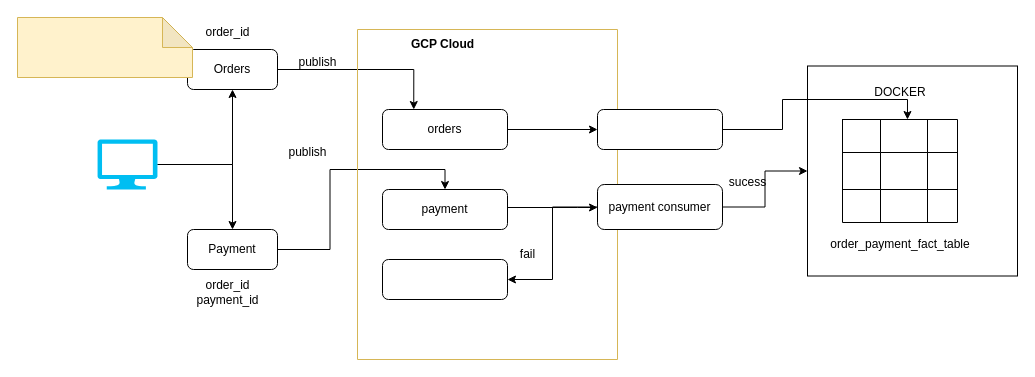
The diagram is 1035 pixels wide and 377 high, and some of its shapes have lost their labels. The shapes that lost their labels are listed below. From the top down, each one's box as (x1, y1, x2, y2) in pixels, then its label:
(16, 16, 192, 78): mock data producer for orders and payments
(596, 108, 722, 150): orders consumer
(382, 258, 508, 300): DLQ_Payment
